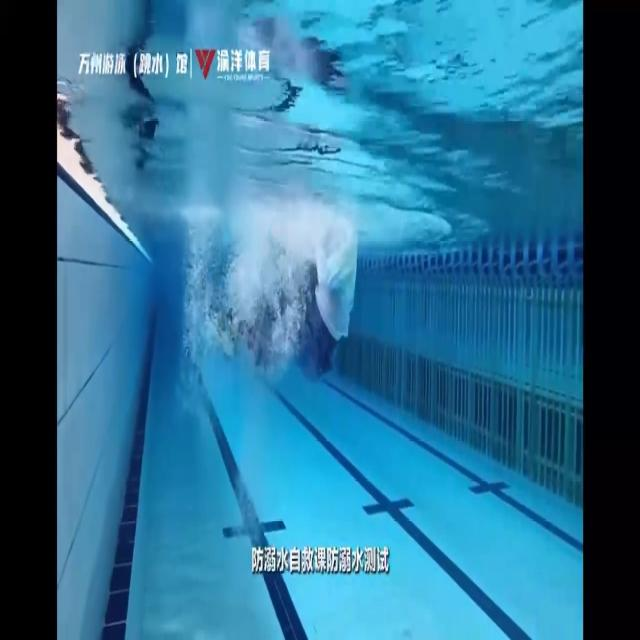Drowning: (225, 231, 358, 379)
